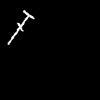double_crochet: (8, 10, 33, 44)
